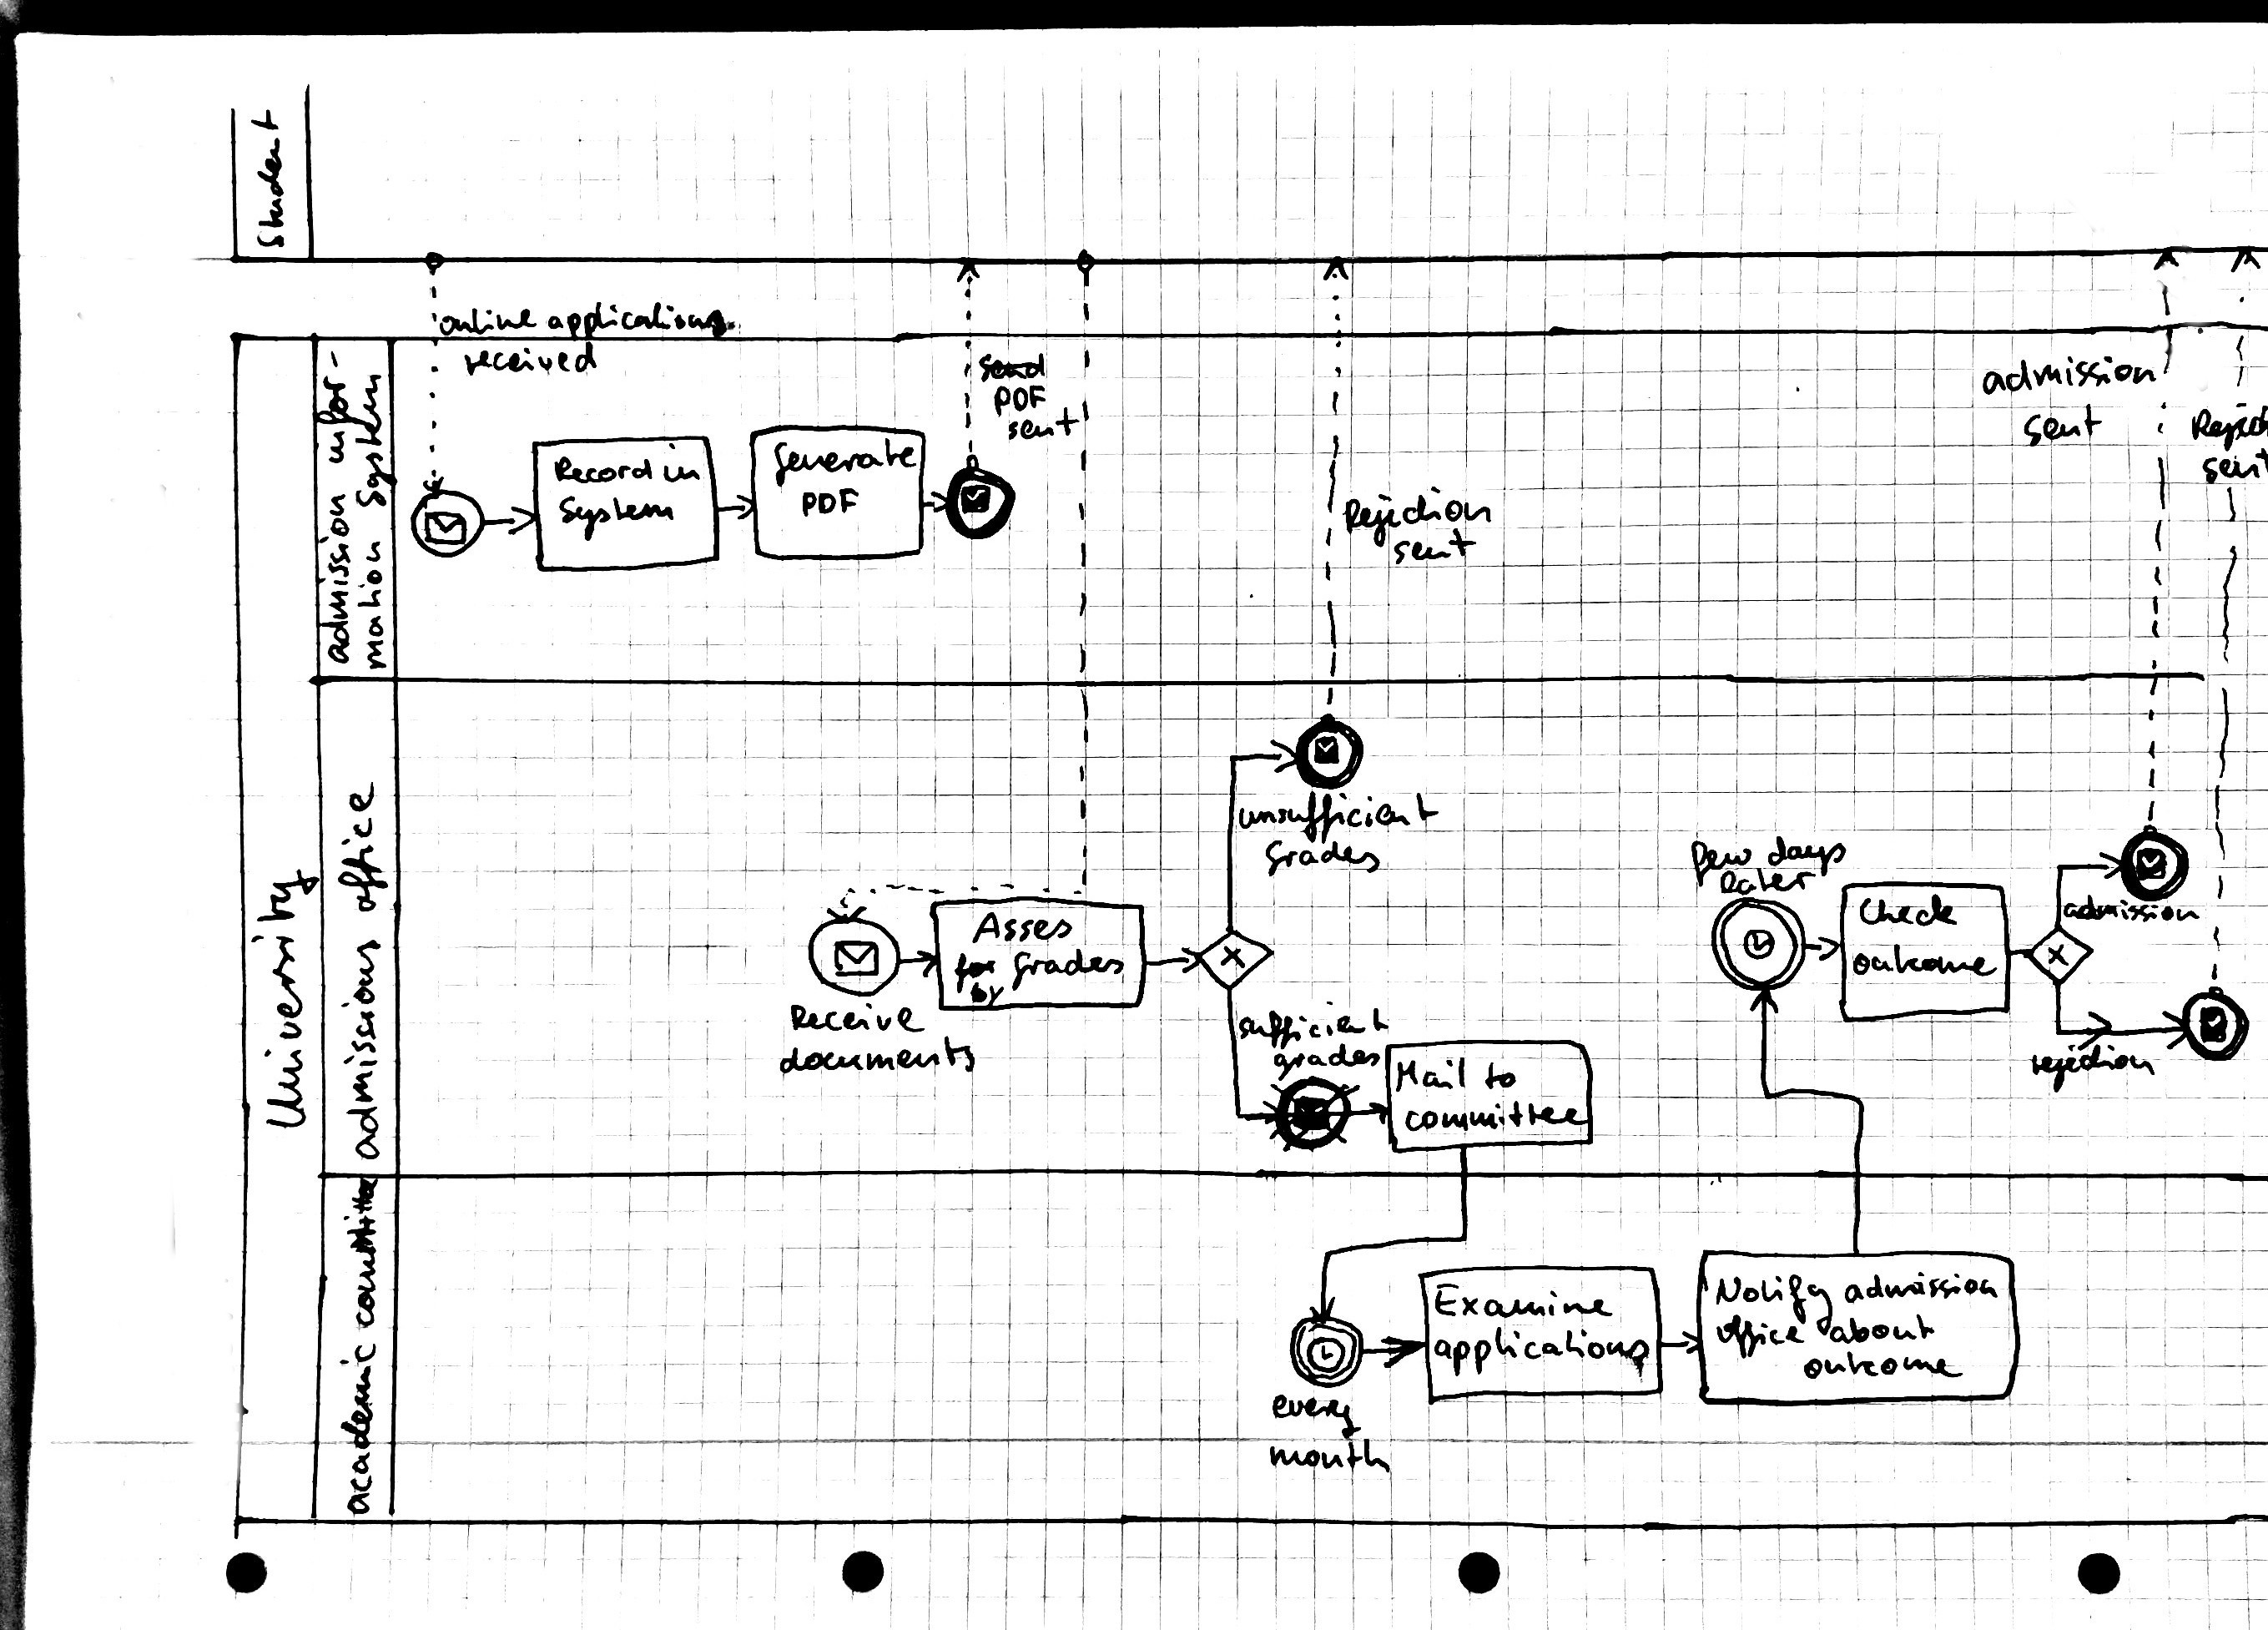Asses: (980, 911, 1074, 946)
Check: (1857, 892, 1961, 931)
Examine: (1436, 1284, 1619, 1322)
Generate: (770, 432, 925, 483)
Mail: (1398, 1056, 1471, 1098)
Notify: (1711, 1268, 1840, 1310)
PDF: (995, 380, 1054, 416), (799, 485, 861, 518)
Receive: (789, 1004, 930, 1038)
Record: (555, 457, 656, 487)
Reject: (2190, 406, 2265, 449)
Rejection: (1334, 487, 1497, 546)
Student: (245, 108, 291, 258)
System: (554, 493, 679, 536), (351, 372, 391, 507)
University: (256, 864, 312, 1119)
about: (1827, 1311, 1940, 1350)
academic: (339, 1340, 384, 1511)
admission: (1982, 352, 2149, 401), (319, 490, 356, 661), (1846, 1270, 2002, 1308), (2061, 894, 2200, 927)
admissions: (335, 927, 386, 1163)
applications: (1415, 1329, 1654, 1380), (553, 300, 718, 341)
by: (964, 977, 1005, 1013)
committee: (339, 1162, 387, 1332), (1400, 1096, 1590, 1140)
days: (1767, 831, 1845, 872)
documents: (783, 1040, 973, 1081)
every: (1269, 1392, 1360, 1431)
few: (1687, 836, 1764, 877)
for: (948, 944, 998, 984)
grades: (1007, 943, 1137, 996), (1263, 835, 1383, 879), (1271, 1043, 1383, 1072)
in: (660, 457, 704, 487)
infor-: (313, 350, 355, 460)
later: (1719, 863, 1827, 901)
mation: (355, 526, 393, 675)
month: (1270, 1441, 1387, 1478)
office: (334, 781, 386, 911), (1710, 1313, 1822, 1360)
online: (434, 303, 539, 344)
outcome: (1850, 941, 1998, 982), (1805, 1347, 1965, 1384)
received: (459, 347, 599, 381)
rejection: (2028, 1039, 2160, 1090)
sent: (1390, 526, 1480, 568), (1003, 401, 1071, 448), (2021, 405, 2103, 443), (2197, 453, 2265, 492)
sufficient: (1236, 1006, 1395, 1049)
to: (1477, 1057, 1517, 1097)
unsufficient: (1235, 786, 1444, 838)
